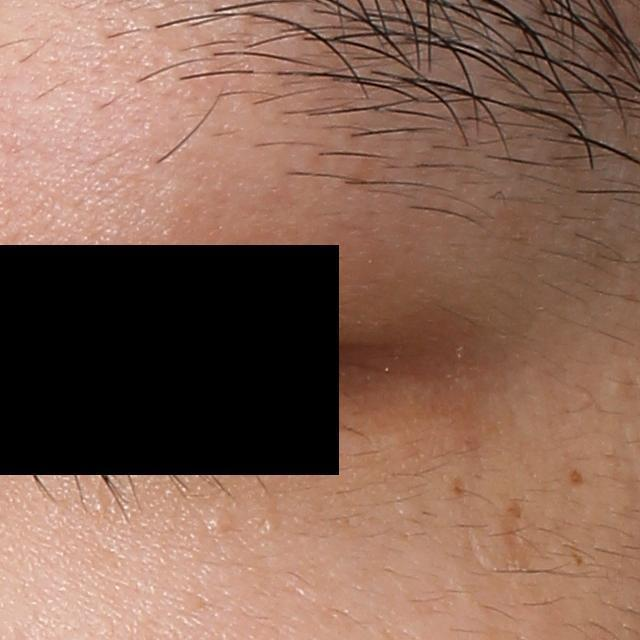comedo: (207, 510, 231, 531)
melasma: (569, 469, 588, 487), (449, 478, 465, 496)
